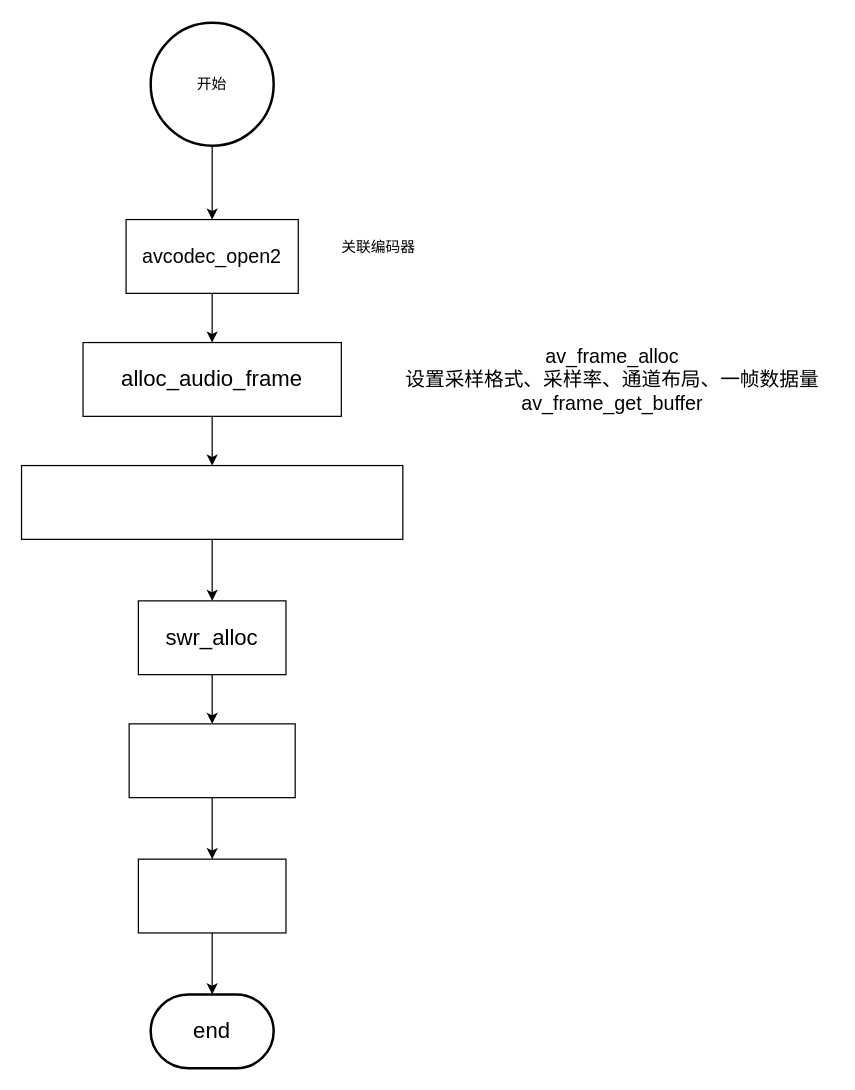
This 855x1090 diagram has some shape labels left out. The centre of each missing label's shape, as x and y in pixels:
"av_opt_set_int" belongs at (x=211, y=760).
"avcodec_parameters_from_context" belongs at (x=211, y=501).
"swr_init" belongs at (x=211, y=895).
